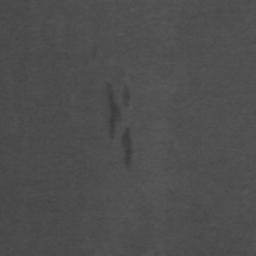Iron scale compression: (122, 128, 133, 169), (121, 82, 130, 107), (107, 83, 114, 108), (109, 121, 114, 141)
